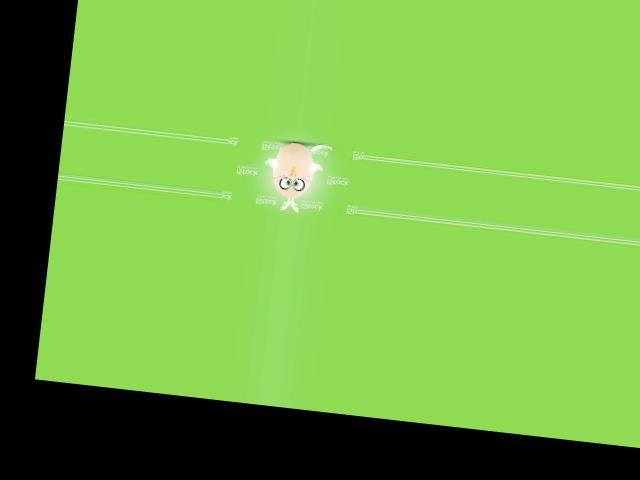egg: (271, 140, 317, 200)
